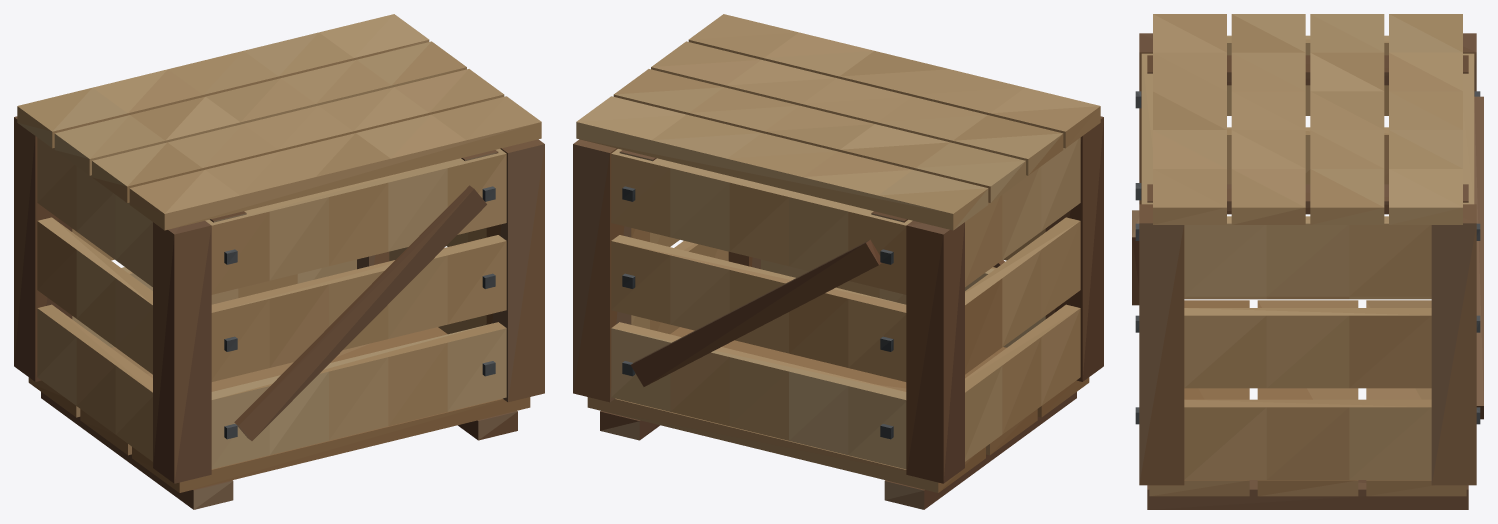
File: crate-closed.clunk-optimized.glb
3 views of the same model, side by side, from view 1: azimuth 30°, elevation 25°; view 2: azimuth 150°, elevation 25°; view 3: azimuth 270°, elevation 25° (orthographic). The views are drawn at different scales.
Parts seen in each view (by area): view 1: crate_body, lid, hardware; view 2: crate_body, lid, hardware; view 3: crate_body, lid, hardware.
Part boxes in pixels (x1=…): crate_body: x1=14, y1=116, x2=544, y2=509; lid: x1=17, y1=14, x2=541, y2=230; hardware: x1=224, y1=186, x2=495, y2=439; crate_body: x1=573, y1=116, x2=1103, y2=509; lid: x1=576, y1=14, x2=1100, y2=230; hardware: x1=622, y1=186, x2=893, y2=439; crate_body: x1=1132, y1=33, x2=1483, y2=509; lid: x1=1147, y1=14, x2=1468, y2=224; hardware: x1=1135, y1=91, x2=1480, y2=424.
Bounding box in the file's own units: 0.57 × 0.434 × 0.438.
